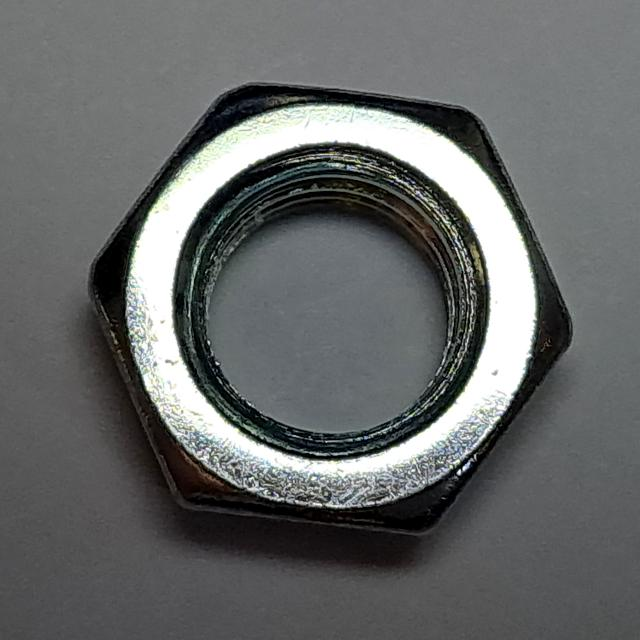Excellent: (66, 68, 586, 553)
